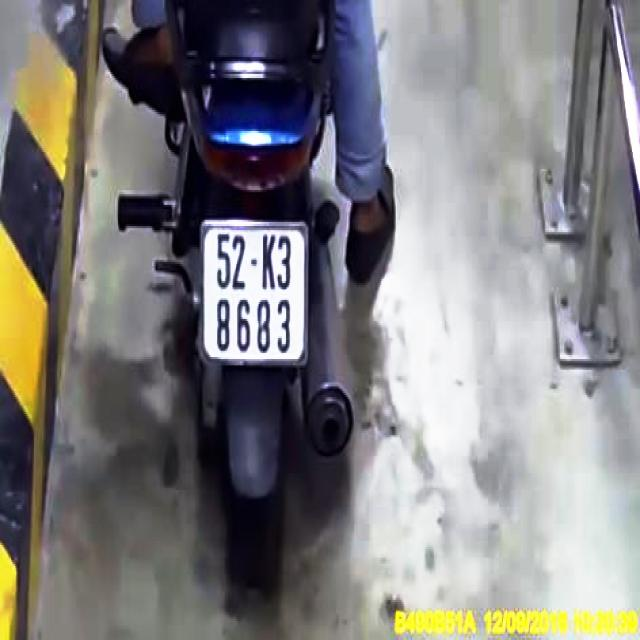license_plate: (203, 227, 312, 361)
